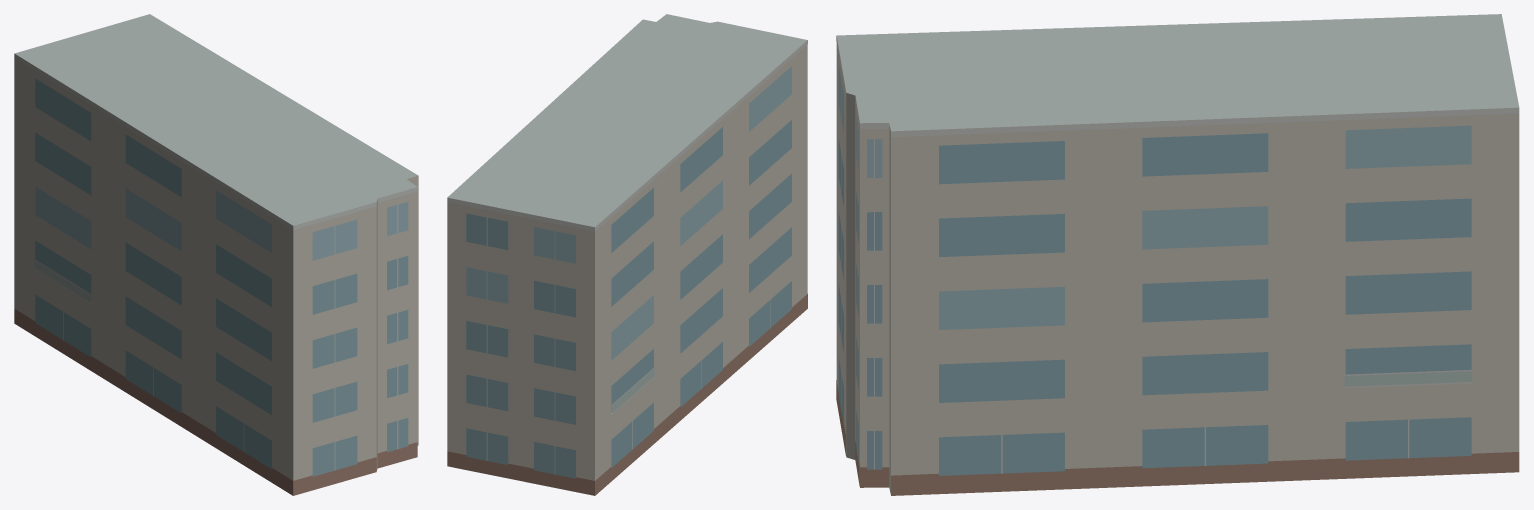
File: survey-upis-32724060.glb
The picture shows the model from 3 angles, left to right: view 1: azimuth 30°, elevation 25°; view 2: azimuth 150°, elevation 25°; view 3: azimuth 270°, elevation 25°; orthographic projection. The views are drawn at different scales.
Parts seen in each view (by area): view 1: survey-upis-32724060.tmp; view 2: survey-upis-32724060.tmp; view 3: survey-upis-32724060.tmp.
Boxes of the visible parts, <box> form: survey-upis-32724060.tmp: <box>14,14,418,495</box>; survey-upis-32724060.tmp: <box>447,14,807,495</box>; survey-upis-32724060.tmp: <box>836,14,1519,495</box>.
Size of the model in its own units: 10.53 by 15.25 by 25.89.
